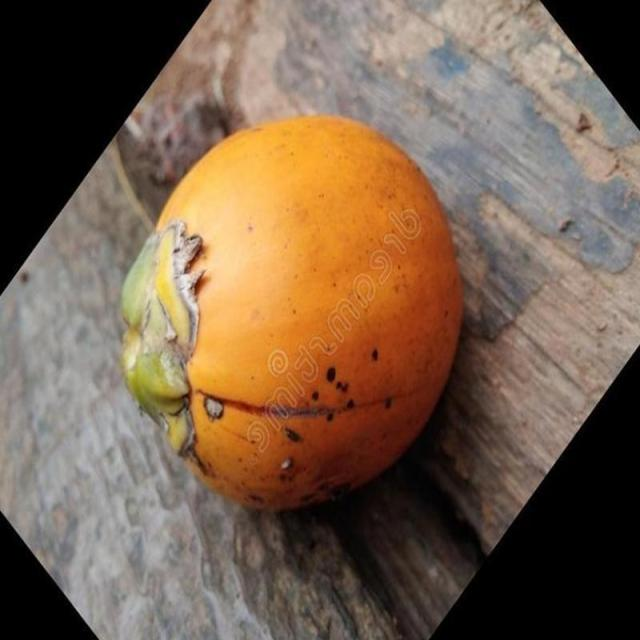good: (120, 116, 465, 515)
